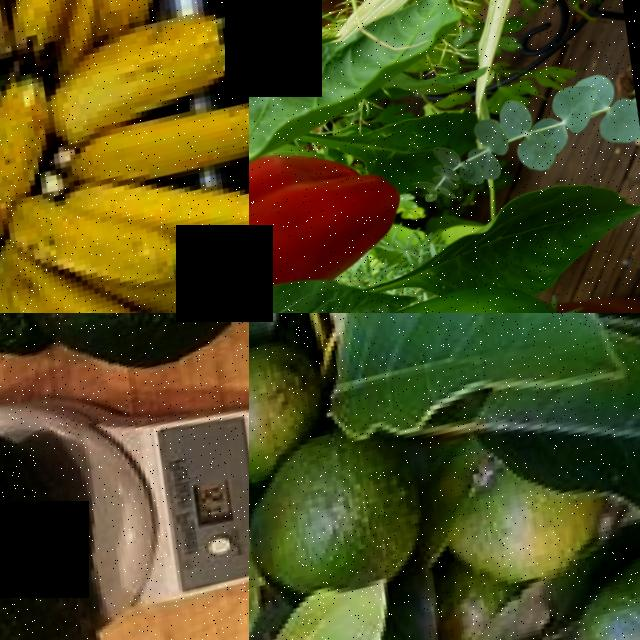avocado: (0, 369, 165, 640), (249, 410, 451, 626), (443, 469, 629, 607), (0, 313, 249, 407), (249, 328, 347, 489), (525, 534, 640, 640)
banana: (26, 1, 249, 134), (67, 134, 249, 287), (6, 170, 192, 313), (63, 78, 249, 203), (0, 214, 187, 313), (61, 0, 197, 57), (0, 0, 127, 55), (154, 253, 249, 313)
bell pepper: (249, 124, 427, 313)
